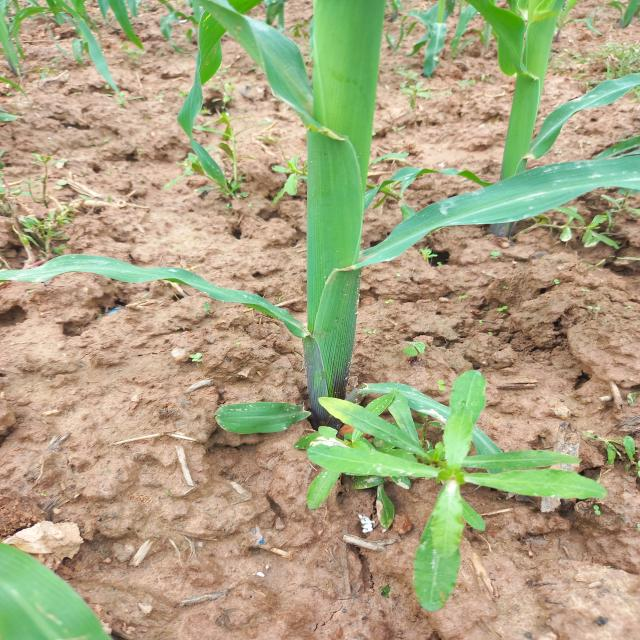maize: (2, 0, 640, 192), (92, 200, 552, 389), (5, 536, 120, 640)
weed: (354, 392, 561, 557), (0, 203, 73, 253), (552, 213, 623, 248)
